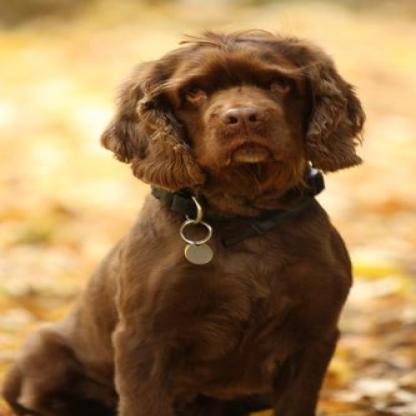Sussex_spaniel: (0, 28, 366, 414)
